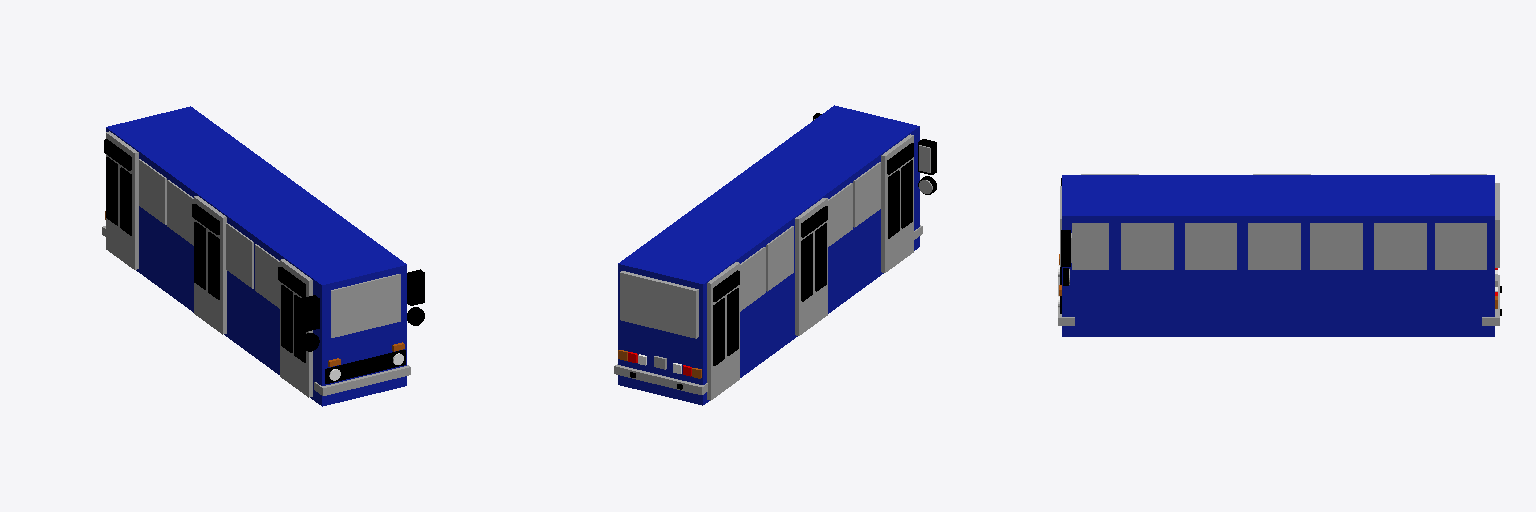
The model's file is ikarus_260_body.obj.
3 views of the same model, side by side, from view 1: azimuth 30°, elevation 25°; view 2: azimuth 150°, elevation 25°; view 3: azimuth 270°, elevation 25° (orthographic).
Visible parts, largest first — view 1: Box01; view 2: Box01; view 3: Box01.
Boxes of the visible parts, x1,y1,x2,y2 form: Box01: [102, 106, 424, 406]; Box01: [614, 105, 936, 405]; Box01: [1058, 174, 1501, 336].
Bounding box in the file's own units: 3.56 × 3.4 × 11.29.